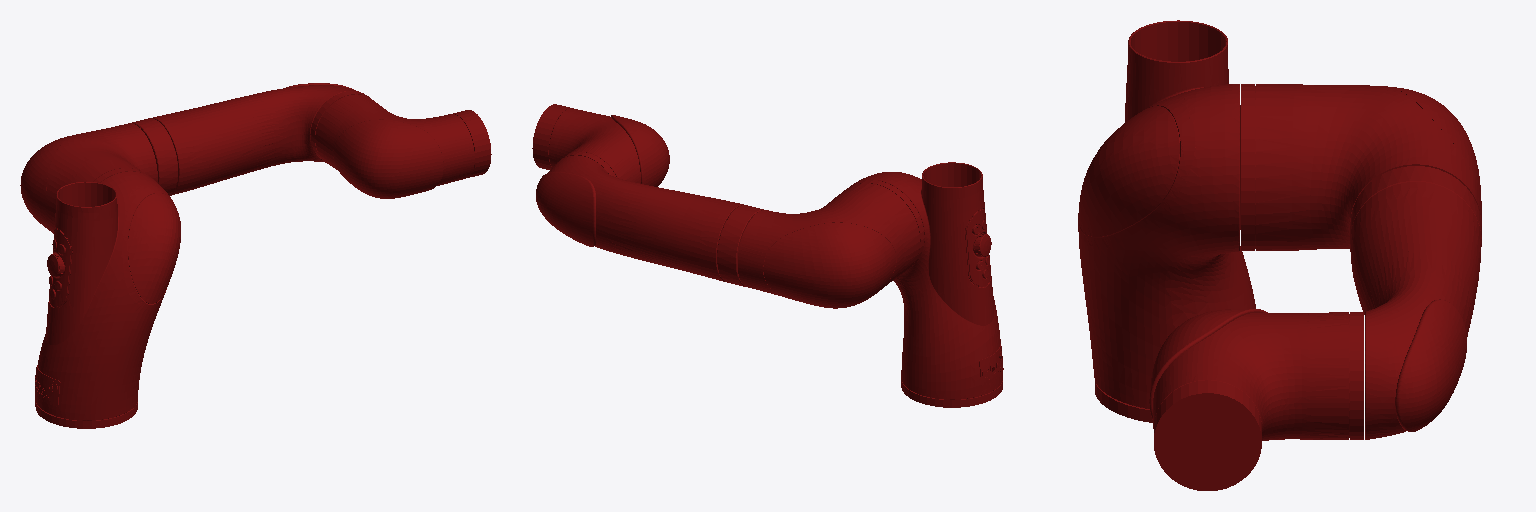
URDF robot description (sawyer):
<?xml version="1.0" ?>
<!-- =================================================================================== -->
<!-- |    This document was autogenerated by xacro from ./urdf.xacro                   | -->
<!-- |    EDITING THIS FILE BY HAND IS NOT RECOMMENDED                                 | -->
<!-- =================================================================================== -->
<robot name="sawyer" xmlns:xacro="http://www.ros.org/wiki/xacro">
  <material name="black">
    <color rgba="0 0 0 1"/>
  </material>
  <material name="darkgray">
    <color rgba=".2 .2 .2 1"/>
  </material>
  <material name="darkred">
    <color rgba=".5 .1 .1 1"/>
  </material>
  <material name="sawyer_red">
    <color rgba=".5 .1 .1 1"/>
  </material>
  <material name="sawyer_gray">
    <color rgba="0.75294 0.75294 0.75294 1"/>
  </material>
  
  <link name="right_arm_base_link">
    <inertial>
      <origin rpy="0 0 0" xyz="-0.0006241 -2.8025E-05 0.065404"/>
      <mass value="2.0687"/>
      <inertia ixx="0.0067599" ixy="-4.2024E-05" ixz="-6.1904E-07" iyy="0.0067877" iyz="1.5888E-05" izz="0.0074031"/>
    </inertial>
    <visual>
      <origin rpy="0 0 0" xyz="0 0 0"/>
      <geometry>
        <mesh filename="package://sawyer_description/meshes/sawyer_pv/base.DAE"/>
      </geometry>
      <material name="sawyer_red"/>
    </visual>
    <collision>
      <origin rpy="0 0 0" xyz="0 0 0.12"/>
      <geometry>
        <cylinder length="0.24" radius="0.08"/>
      </geometry>
    </collision>
  </link>
  <link name="right_l0">
    <inertial>
      <origin rpy="0 0 0" xyz="0.024366 0.010969 0.14363"/>
      <mass value="5.3213"/>
      <inertia ixx="0.053314" ixy="0.0047093" ixz="0.011734" iyy="0.057902" iyz="0.0080179" izz="0.023659"/>
    </inertial>
    <visual>
      <origin rpy="0 0 0" xyz="0 0 0"/>
      <geometry>
        <mesh filename="package://sawyer_description/meshes/sawyer_mp3/l0.DAE"/>
      </geometry>
      <material name="sawyer_red"/>
    </visual>
    <collision>
      <origin rpy="0 0 0" xyz="0.081 0 0.237"/>
      <geometry>
        <sphere radius="0.07"/>
      </geometry>
    </collision>
  </link>
  <joint name="right_j0" type="revolute">
    <origin rpy="0 0 0" xyz="0 0 0.08"/>
    <parent link="right_arm_base_link"/>
    <child link="right_l0"/>
    <axis xyz="0 0 1"/>
    <limit effort="80.0" lower="-3.0503" upper="3.0503" velocity="1.74"/>
  </joint>
  
  <link name="right_l1">
    <inertial>
      <origin rpy="0 0 0" xyz="-0.0030849 -0.026811 0.092521"/>
      <mass value="4.505"/>
      <inertia ixx="0.022398" ixy="-0.00023986" ixz="-0.00029362" iyy="0.014613" iyz="-0.0060875" izz="0.017295"/>
    </inertial>
    <visual>
      <origin rpy="0 0 0" xyz="0 0 0"/>
      <geometry>
        <mesh filename="package://sawyer_description/meshes/sawyer_mp3/l1.DAE"/>
      </geometry>
      <material name="sawyer_red"/>
    </visual>
    <collision>
      <origin rpy="0 0 0" xyz="0 0 0.1225"/>
      <geometry>
        <sphere radius="0.07"/>
      </geometry>
    </collision>
  </link>
  <joint name="right_j1" type="revolute">
    <origin rpy="-1.57079632679 1.57079632679 0" xyz="0.081 0.05 0.237"/>
    <parent link="right_l0"/>
    <child link="right_l1"/>
    <axis xyz="0 0 1"/>
    <limit effort="80.0" lower="-3.8183" upper="2.2824" velocity="1.328"/>
  </joint>
  <link name="right_l2">
    <inertial>
      <origin rpy="0 0 0" xyz="-0.00016232 -0.015346 0.13445"/>
      <mass value="1.7251"/>
      <inertia ixx="0.025176" ixy="4.3031E-06" ixz="1.4564E-05" iyy="0.024982" iyz="-0.0033928" izz="0.0033798"/>
    </inertial>
    <visual>
      <origin rpy="0 0 0" xyz="0 0 0"/>
      <geometry>
        <mesh filename="package://sawyer_description/meshes/sawyer_pv/l2.DAE"/>
      </geometry>
      <material name="sawyer_red"/>
    </visual>
    <collision>
      <origin rpy="0 0 0" xyz="0 0 0.14"/>
      <geometry>
        <cylinder length="0.35" radius="0.06"/>
      </geometry>
    </collision>
  </link>
  <joint name="right_j2" type="revolute">
    <origin rpy="1.57079632679 0 0" xyz="0 -0.14 0.1425"/>
    <parent link="right_l1"/>
    <child link="right_l2"/>
    <axis xyz="0 0 1"/>
    <limit effort="40.0" lower="-3.0514" upper="3.0514" velocity="1.957"/>
  </joint>
  <link name="right_l3">
    <inertial>
      <origin rpy="0 0 0" xyz="-0.0046678 -0.028394 -0.083127"/>
      <mass value="2.4743"/>
      <inertia ixx="0.0099549" ixy="-1.7675E-05" ixz="0.00027521" iyy="0.0064248" iyz="0.0030853" izz="0.0067746"/>
    </inertial>
    <visual>
      <origin rpy="0 0 0" xyz="0 0 0"/>
      <geometry>
        <mesh filename="package://sawyer_description/meshes/sawyer_pv/l3.DAE"/>
      </geometry>
      <material name="sawyer_red"/>
    </visual>
    <collision>
      <origin rpy="0 0 0" xyz="0 -0.01 -0.12"/>
      <geometry>
        <sphere radius="0.06"/>
      </geometry>
    </collision>
  </link>
  <joint name="right_j3" type="revolute">
    <origin rpy="-1.57079632679 0 0" xyz="0 -0.042 0.26"/>
    <parent link="right_l2"/>
    <child link="right_l3"/>
    <axis xyz="0 0 1"/>
    <limit effort="40.0" lower="-3.0514" upper="3.0514" velocity="1.957"/>
  </joint>
  <link name="right_l4">
    <inertial>
      <origin rpy="0 0 0" xyz="-0.0027794 0.0076558 0.13273"/>
      <mass value="1.0433"/>
      <inertia ixx="0.012913" ixy="2.573E-05" ixz="0.00017705" iyy="0.012939" iyz="0.0011152" izz="0.0012405"/>
    </inertial>
    <visual>
      <origin rpy="0 0 0" xyz="0 0 0"/>
      <geometry>
        <mesh filename="package://sawyer_description/meshes/sawyer_pv/l4.DAE"/>
      </geometry>
      <material name="sawyer_red"/>
    </visual>
    <collision>
      <origin rpy="0 0 0" xyz="0 0 0.14"/>
      <geometry>
        <cylinder length="0.36" radius="0.045"/>
      </geometry>
    </collision>
  </link>
  <joint name="right_j4" type="revolute">
    <origin rpy="1.57079632679 0 0" xyz="0 -0.125 -0.1265"/>
    <parent link="right_l3"/>
    <child link="right_l4"/>
    <axis xyz="0 0 1"/>
    <limit effort="9.0" lower="-2.9842" upper="2.9842" velocity="3.485"/>
  </joint>
 
  <link name="right_l5">
    <inertial>
      <origin rpy="0 0 0" xyz="0.0062067 -0.024291 0.075564"/>
      <mass value="1.5343"/>
      <inertia ixx="0.0046072" ixy="0.00012002" ixz="5.3065E-05" iyy="0.0028725" iyz="-0.0011886" izz="0.003101"/>
    </inertial>
    <visual>
      <origin rpy="0 0 0" xyz="0 0 0"/>
      <geometry>
        <mesh filename="package://sawyer_description/meshes/sawyer_pv/l5.STL"/>
      </geometry>
      <material name="sawyer_red"/>
    </visual>
    <collision>
      <origin rpy="0 0 0" xyz="0.01 0 0.09"/>
      <geometry>
        <sphere radius="0.06"/>
      </geometry>
    </collision>
  </link>
  <joint name="right_j5" type="revolute">
    <origin rpy="-1.57079632679 0 0" xyz="0 0.031 0.275"/>
    <parent link="right_l4"/>
    <child link="right_l5"/>
    <axis xyz="0 0 1"/>
    <limit effort="9.0" lower="-2.9842" upper="2.9842" velocity="3.485"/>
  </joint>
  <link name="right_l6">
    <inertial>
      <origin rpy="0 0 0" xyz="-8.0726E-06 0.0085838 -0.0049566"/>
      <mass value="0.3292"/>
      <inertia ixx="0.00031105" ixy="1.4771E-06" ixz="-3.7074E-07" iyy="0.00021549" iyz="-8.4533E-06" izz="0.00035976"/>
    </inertial>
    <visual>
      <origin rpy="0 0 0" xyz="0 0 0"/>
      <geometry>
        <mesh filename="package://sawyer_description/meshes/sawyer_mp1/l6.STL"/>
      </geometry>
      <material name="sawyer_red"/>
    </visual>
    <collision>
      <origin rpy="0 0 0" xyz="0 0 -0.005"/>
      <geometry>
        <cylinder length="0.05" radius="0.065"/>
      </geometry>
    </collision>
  </link>
  <joint name="right_j6" type="revolute">
    <origin rpy="-1.57079632679 -0.17453 3.1416" xyz="0 -0.11 0.1053"/>
    <parent link="right_l5"/>
    <child link="right_l6"/>
    <axis xyz="0 0 1"/>
    <limit effort="9.0" lower="-4.7104" upper="4.7104" velocity="4.545"/>
  </joint>
</robot>

--- Render facts (derived) ---
Views: 3 orthographic renders of the robot side by side, from view 1: azimuth 30°, elevation 25°; view 2: azimuth 150°, elevation 25°; view 3: azimuth 270°, elevation 25°.
Model sawyer with 8 links and 7 joints (7 revolute), rooted at right_arm_base_link, posed all joints at 0.
Visible links, largest first — view 1: right_l0, right_l3, right_l2, right_l1; view 2: right_l0, right_l1, right_l2, right_l3; view 3: right_l0, right_l3, right_l1, right_l2.
Boxes of the visible links, left/top/right/bottom form: right_l0: left=35, top=171, right=180, bottom=428; right_l3: left=310, top=91, right=491, bottom=198; right_l2: left=153, top=83, right=358, bottom=195; right_l1: left=20, top=118, right=177, bottom=233; right_l0: left=851, top=162, right=1003, bottom=407; right_l1: left=717, top=180, right=924, bottom=308; right_l2: left=536, top=155, right=743, bottom=281; right_l3: left=532, top=104, right=669, bottom=186; right_l0: left=1078, top=20, right=1255, bottom=422; right_l3: left=1149, top=309, right=1363, bottom=490; right_l1: left=1240, top=84, right=1481, bottom=250; right_l2: left=1350, top=182, right=1481, bottom=439.
Bounding box of the posed robot: 0.6766 × 0.3267 × 0.312 m (x, y, z).
Meshes: 8 distinct files referenced, 4 mesh visuals loaded (4 Collada DAE); not drawn: 4 (reference not matched to a file when rendering).
